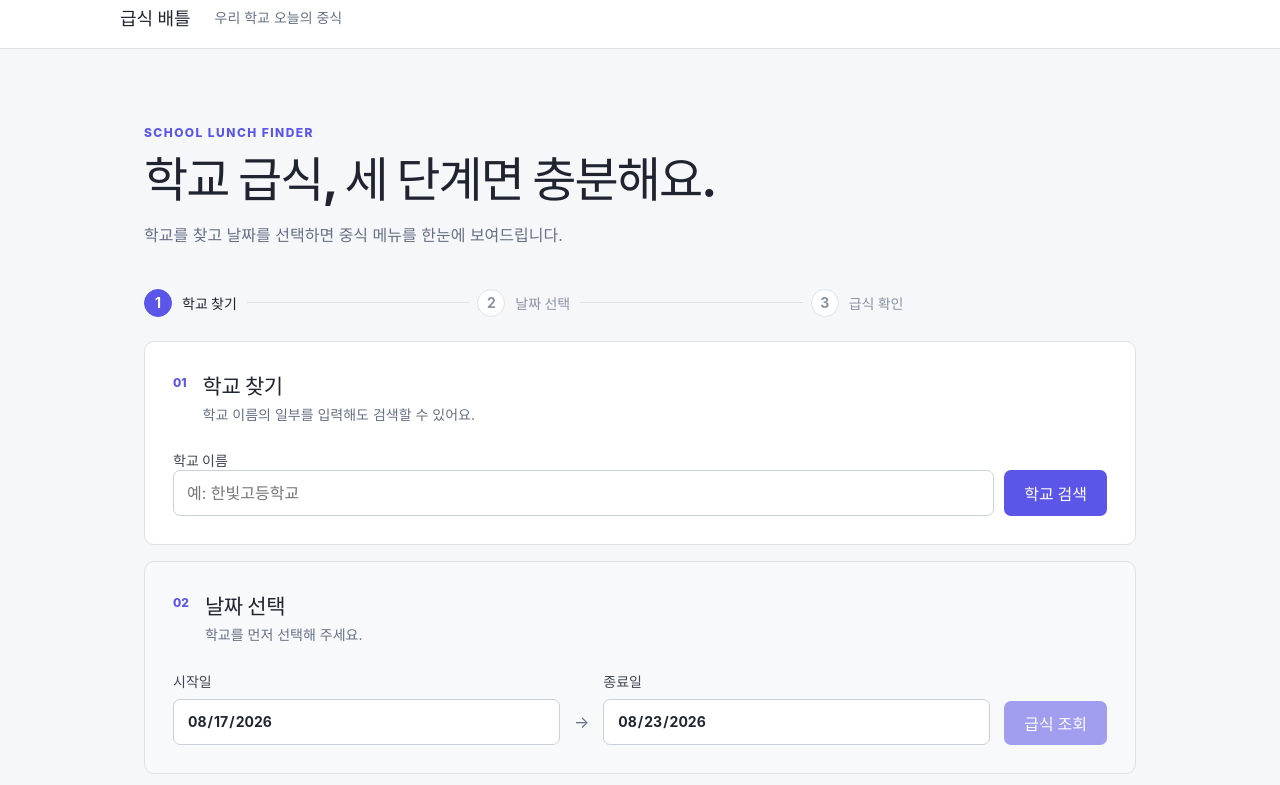
Test: App › renders sorted meals and optional nutrition
The width and height of the screenshot is (1280, 785).
Type "예시" into the dropdown labelled "학교 이름". click: (584, 493)
box: [173,470,994,516]
Then press Enter
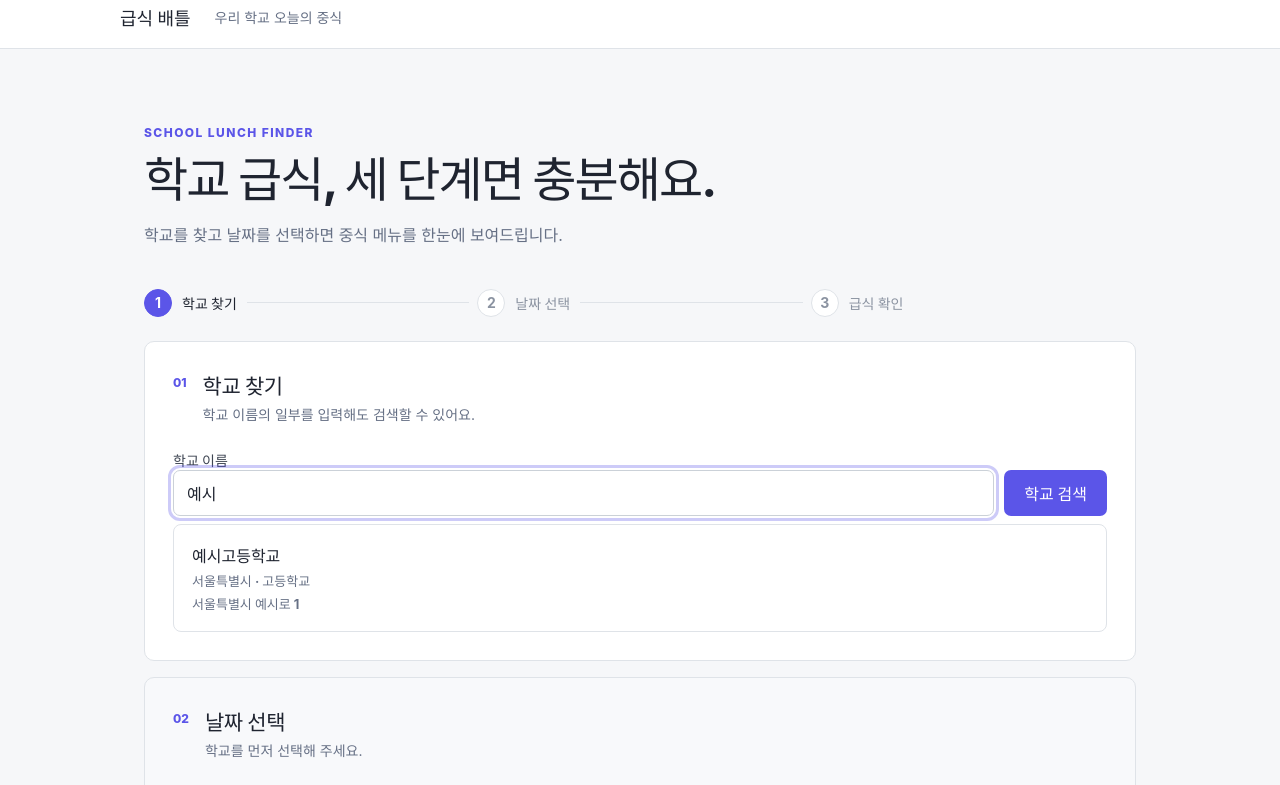
Click the button "예시고등학교 서울특별시 · 고등학교 서울특별시 예시로 1". click: (236, 556)
box: [180,531,1100,625]
(page scrolled)
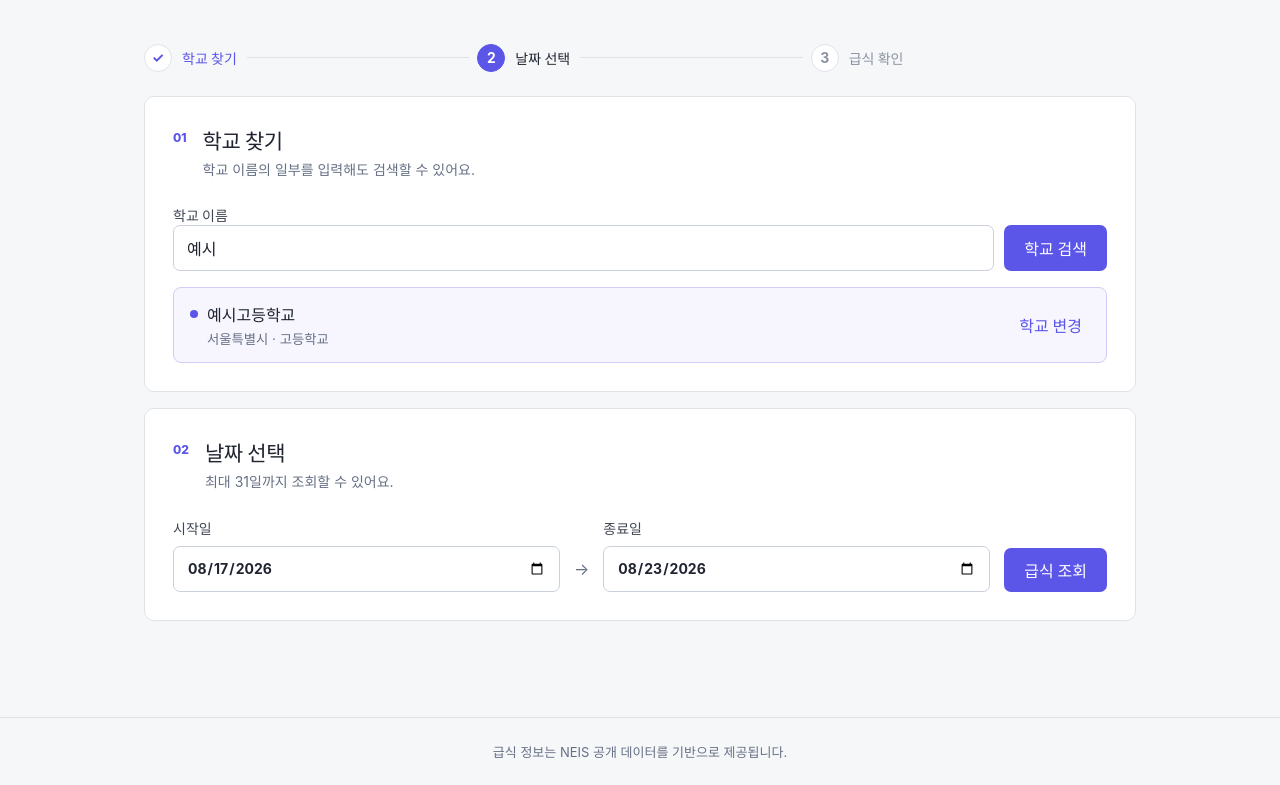
Click the button "급식 조회". click: (1056, 570)
box: [1004,548,1107,592]
(page scrolled)
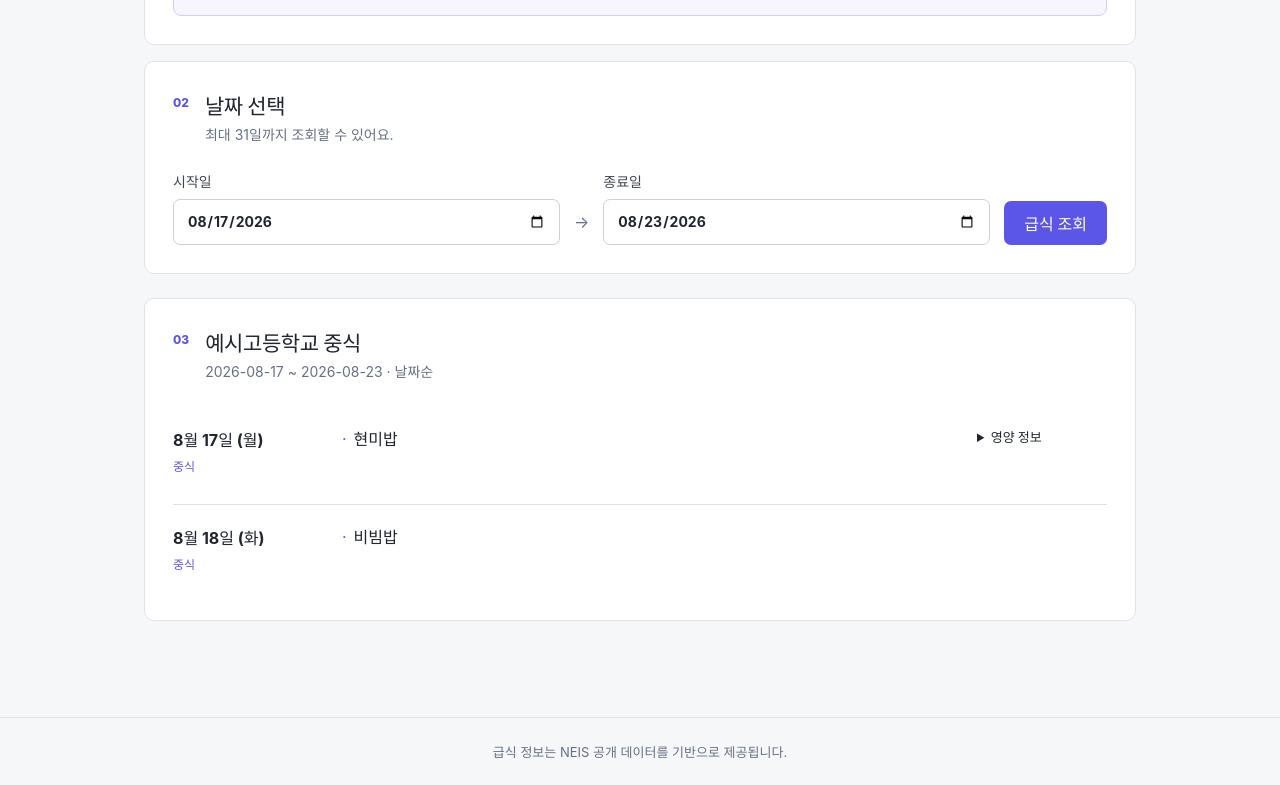
Check: the list item "현미밥" is shown, box [342,427,398,453]
Check: the text "현미밥" is shown, box [354,429,398,449]
Check: the heading "영양 정보" is shown, box [991,429,1042,445]
